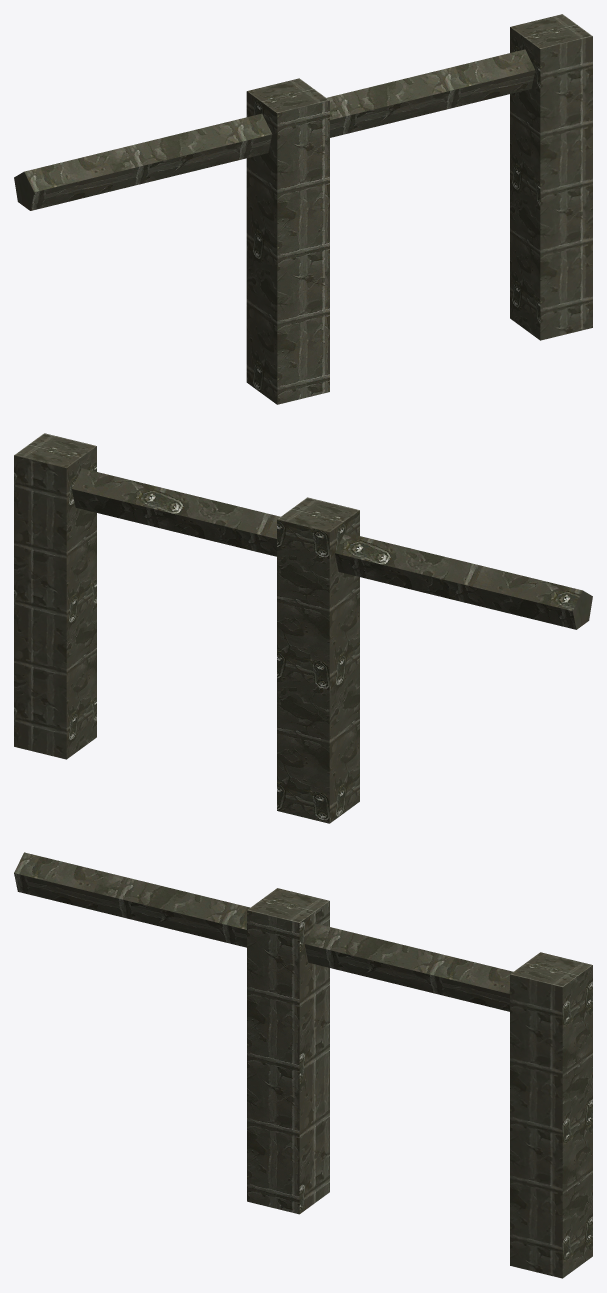
The model's file is Fence_metal1.glb.
The picture shows the model from 3 angles, top to bottom: view 1: azimuth 30°, elevation 25°; view 2: azimuth 150°, elevation 25°; view 3: azimuth 330°, elevation 25°; orthographic projection.
Visible parts, largest first — view 1: Cube; view 2: Cube; view 3: Cube.
Boxes of the visible parts, left/top/right/bottom form: Cube: left=14, top=14, right=592, bottom=404; Cube: left=14, top=433, right=592, bottom=823; Cube: left=14, top=852, right=592, bottom=1278.
Size of what is drawn, in the model's own units: 2.1 by 1.06 by 0.2.
Materials: 1 (1 with a texture image).
